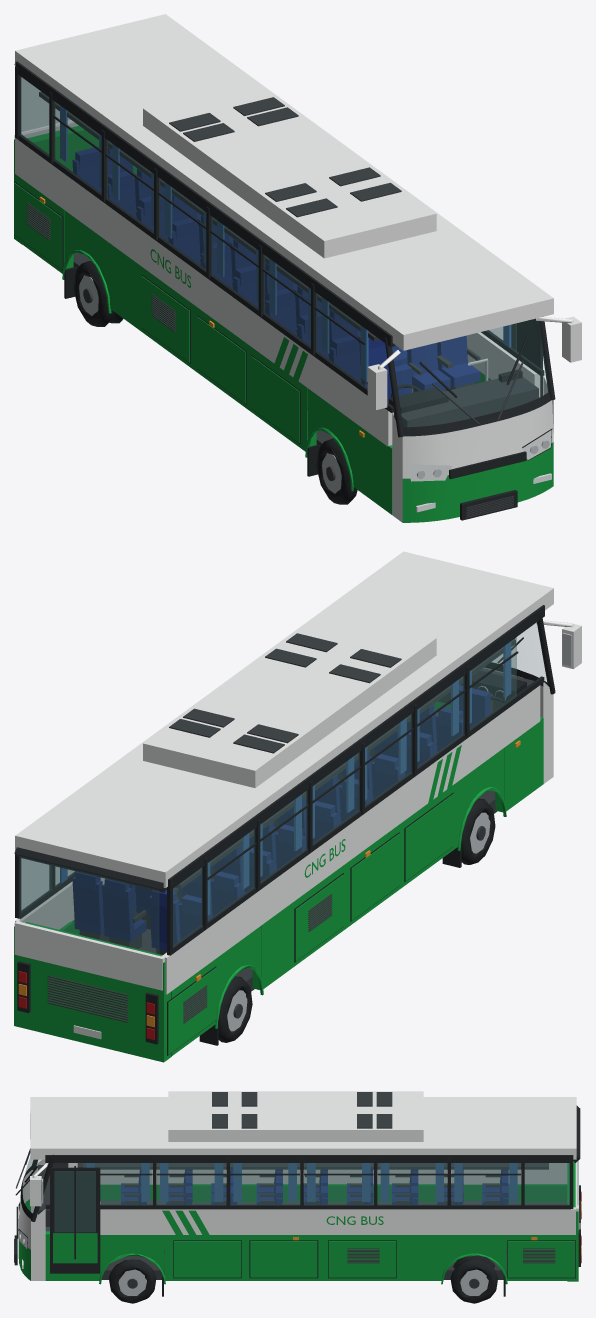
Rendered from coach_lod1.glb.
The picture shows the model from 3 angles, top to bottom: view 1: azimuth 30°, elevation 25°; view 2: azimuth 150°, elevation 25°; view 3: azimuth 270°, elevation 25°; orthographic projection. The views are drawn at different scales.
Visible parts, largest first — view 1: Body, Wheel_Rear_Left, Wheel_Front_Left; view 2: Body, Wheel_Rear_Left, Wheel_Front_Left; view 3: Body, Wheel_Rear_Right, Wheel_Front_Right.
Part boxes in pixels (left/top/right/bottom): Body: left=14, top=14, right=581, bottom=522; Wheel_Rear_Left: left=73, top=261, right=123, bottom=326; Wheel_Front_Left: left=316, top=438, right=357, bottom=504; Body: left=14, top=551, right=581, bottom=1062; Wheel_Rear_Left: left=218, top=976, right=252, bottom=1042; Wheel_Front_Left: left=461, top=798, right=495, bottom=864; Body: left=14, top=1091, right=581, bottom=1296; Wheel_Rear_Right: left=450, top=1255, right=497, bottom=1303; Wheel_Front_Right: left=109, top=1259, right=156, bottom=1303.
Size of the model in its own units: 3.41 by 3.81 by 11.57.
